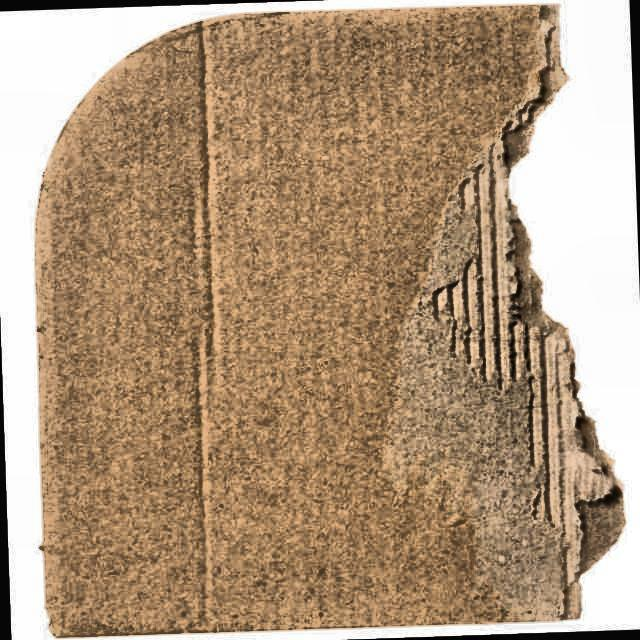cardboard: (34, 4, 628, 640)
